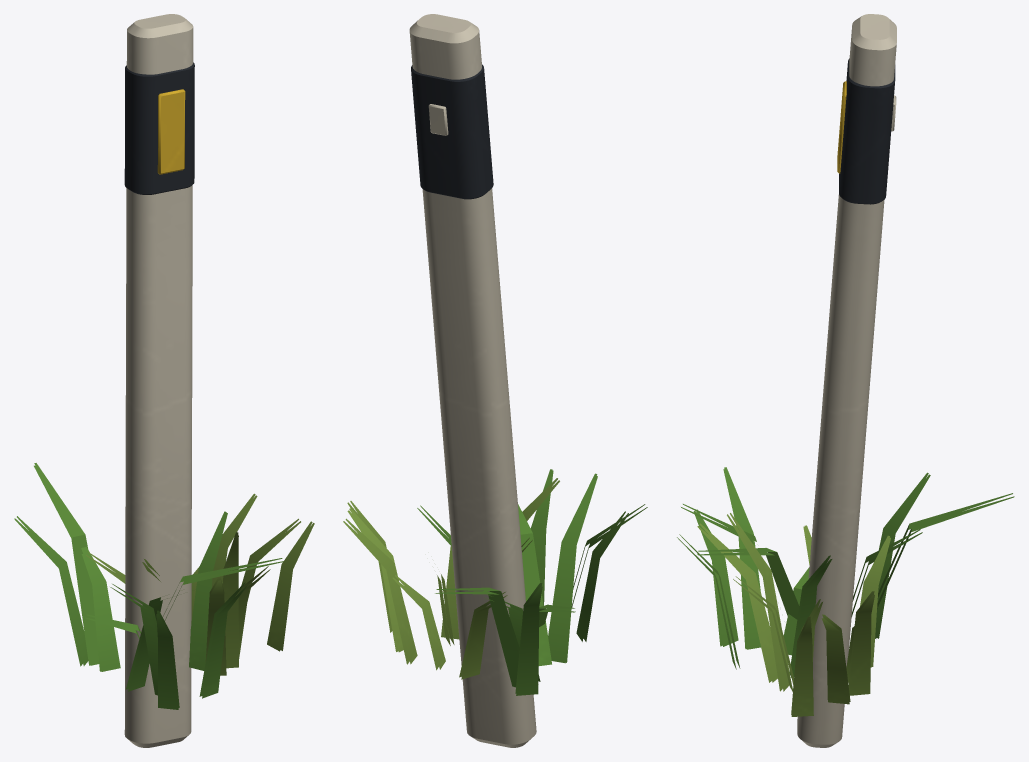
The model's file is road_reflector_post.glb.
3 renders of one model, left to right at view 1: azimuth 30°, elevation 25°; view 2: azimuth 150°, elevation 25°; view 3: azimuth 270°, elevation 25°, orthographic. The views are drawn at different scales.
Visible parts, largest first — view 1: road_reflector_post; view 2: road_reflector_post; view 3: road_reflector_post.
Part boxes in pixels (x1,y1,x2,y2): road_reflector_post: [14, 14, 314, 747]; road_reflector_post: [343, 14, 647, 747]; road_reflector_post: [677, 14, 1014, 747].
Bounding box in the file's own units: 0.461 × 1.25 × 0.5282.
Materials: 6 (6 with a texture image).
